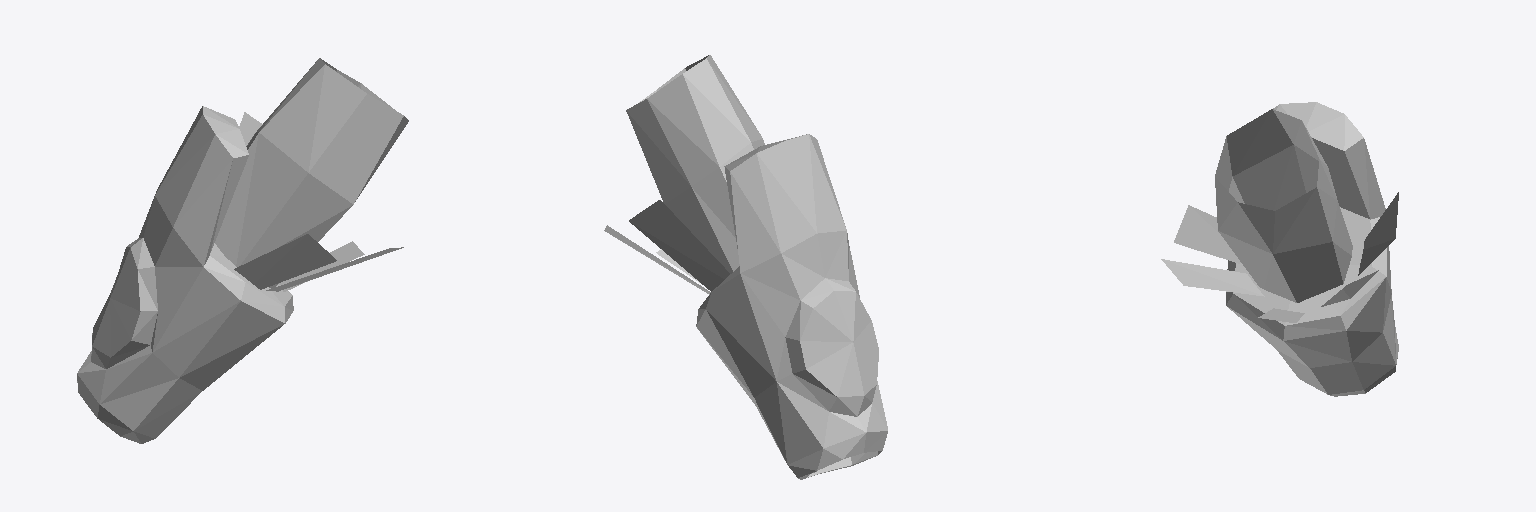
Rendered from ABIKarma.obj.
3 renders of one model, left to right at view 1: azimuth 30°, elevation 25°; view 2: azimuth 150°, elevation 25°; view 3: azimuth 270°, elevation 25°, orthographic.
Parts seen in each view (by area): view 1: Brazo_izq_Material.001; view 2: Brazo_izq_Material.001; view 3: Brazo_izq_Material.001.
Part boxes in pixels (x1,y1,x2,y2): Brazo_izq_Material.001: (77,58,408,443); Brazo_izq_Material.001: (604,55,887,479); Brazo_izq_Material.001: (1161,102,1398,396).
Size of the model in its own units: 20.91 by 25.78 by 15.58.